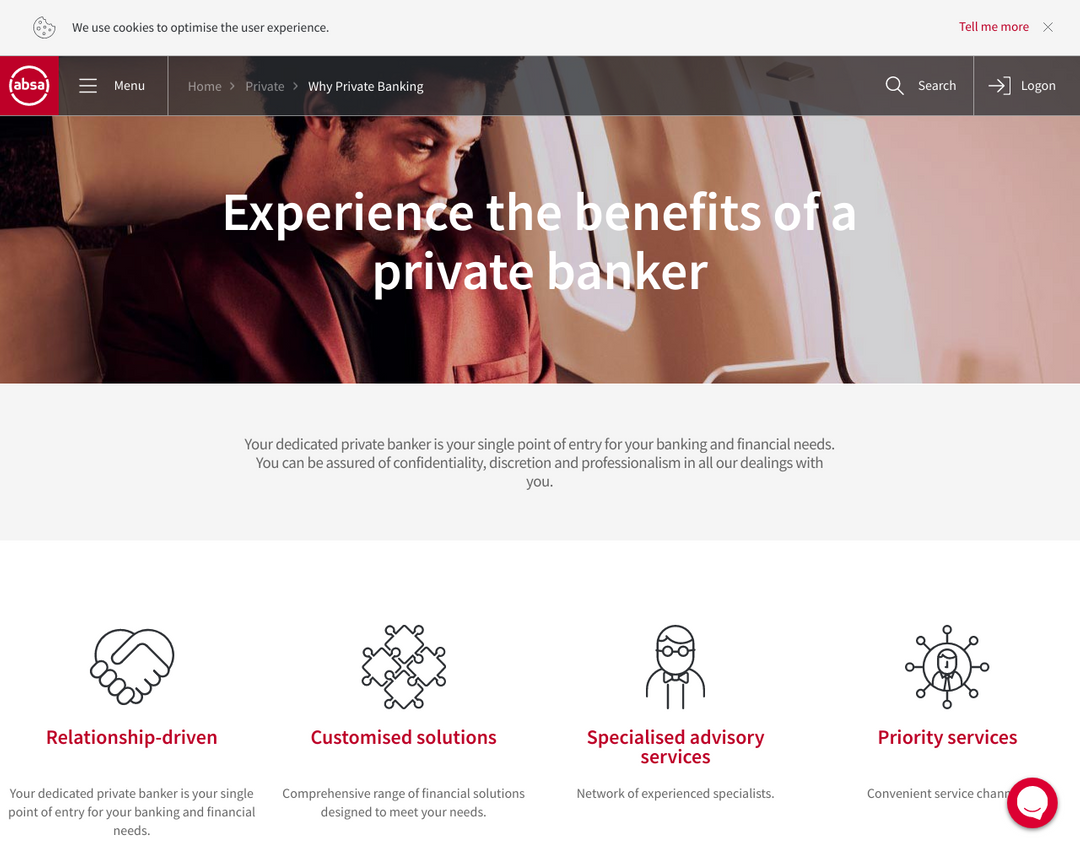ABSA: (8, 65, 51, 108)
